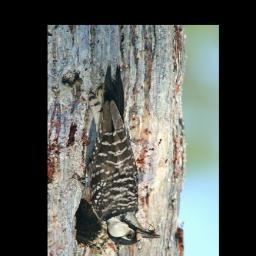Woodpecker: (70, 59, 162, 246)
